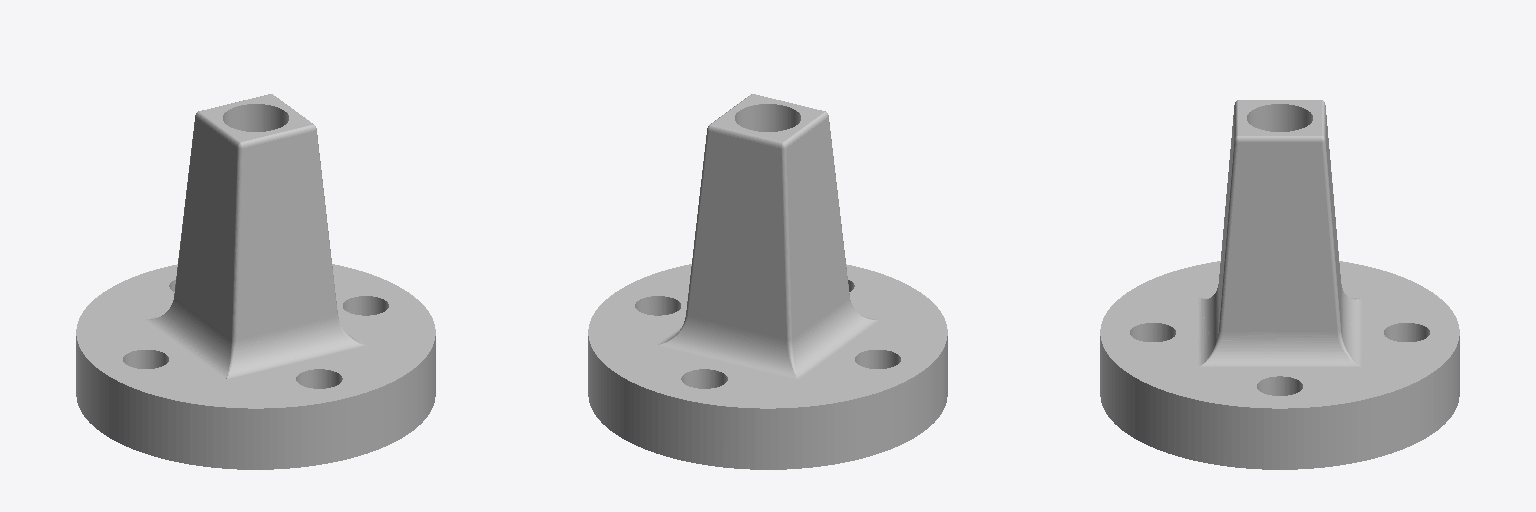
The model's file is Prints_motor_link.obj.
The picture shows the model from 3 angles: view 1: azimuth 30°, elevation 25°; view 2: azimuth 150°, elevation 25°; view 3: azimuth 270°, elevation 25°; orthographic projection.
Visible parts, largest first — view 1: motor_link; view 2: motor_link; view 3: motor_link.
Boxes of the visible parts, x1,y1,x2,y2 form: motor_link: [76, 94, 435, 469]; motor_link: [588, 94, 947, 469]; motor_link: [1100, 100, 1459, 469].
Bounding box in the file's own units: 0.017 × 0.0144 × 0.017.